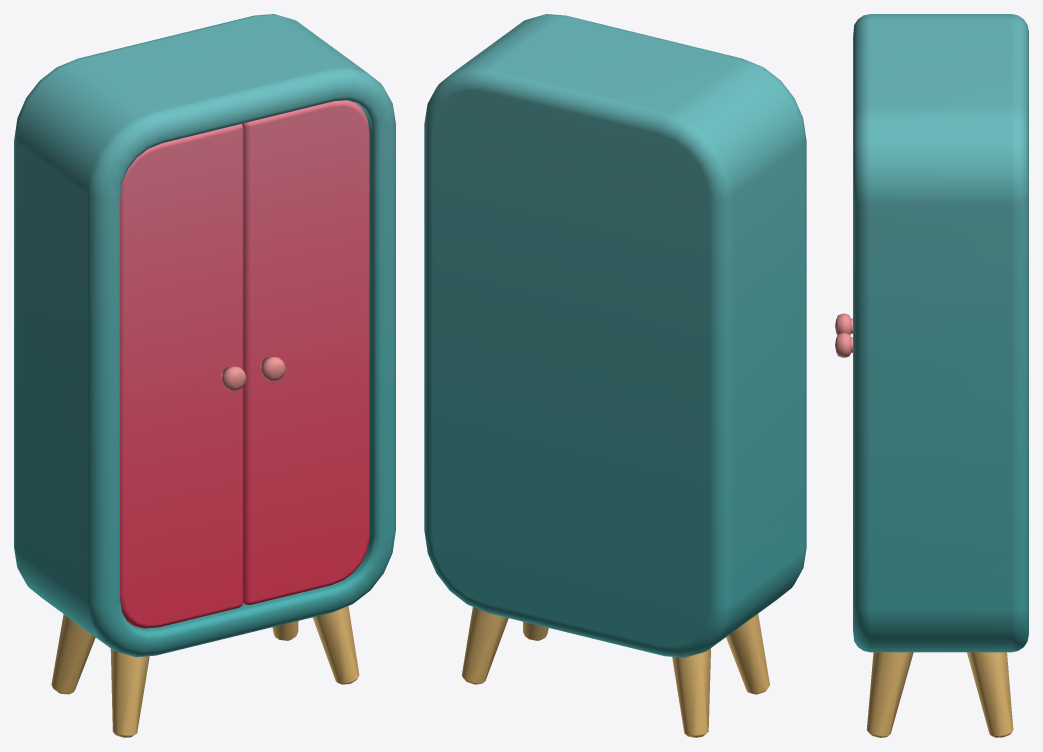
The model's file is closet-02.glb.
3 renders of one model, left to right at view 1: azimuth 30°, elevation 25°; view 2: azimuth 150°, elevation 25°; view 3: azimuth 270°, elevation 25°, orthographic.
Parts seen in each view (by area): view 1: Closet_02; view 2: Closet_02; view 3: Closet_02.
Part boxes in pixels (left/top/right/bottom): Closet_02: left=14, top=14, right=395, bottom=737; Closet_02: left=424, top=14, right=806, bottom=737; Closet_02: left=835, top=14, right=1028, bottom=737.
Bounding box in the file's own units: 0.8 × 1.55 × 0.4405.
Materials: 1 (1 with a texture image).
